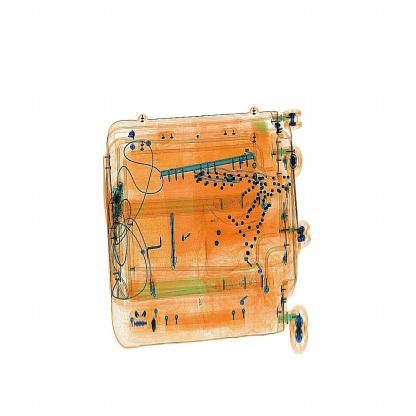knife: (169, 210, 179, 269)
